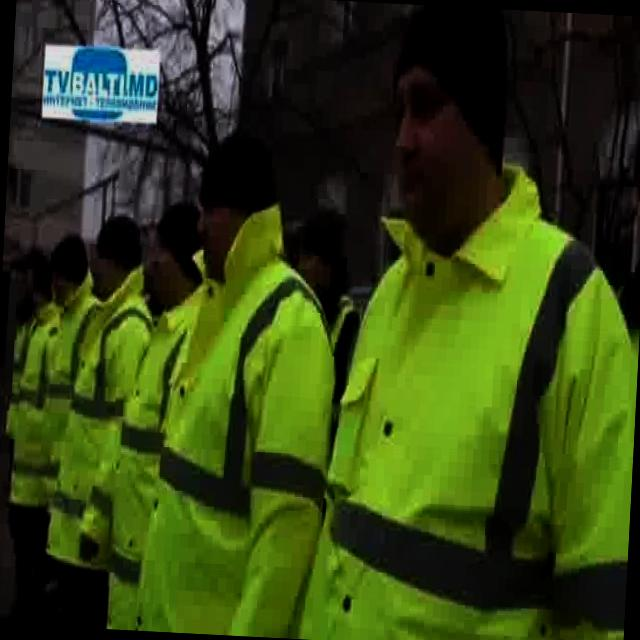vest: (300, 147, 640, 640), (131, 197, 346, 640), (42, 258, 159, 585), (105, 280, 208, 634), (28, 260, 102, 526), (4, 298, 64, 511)
